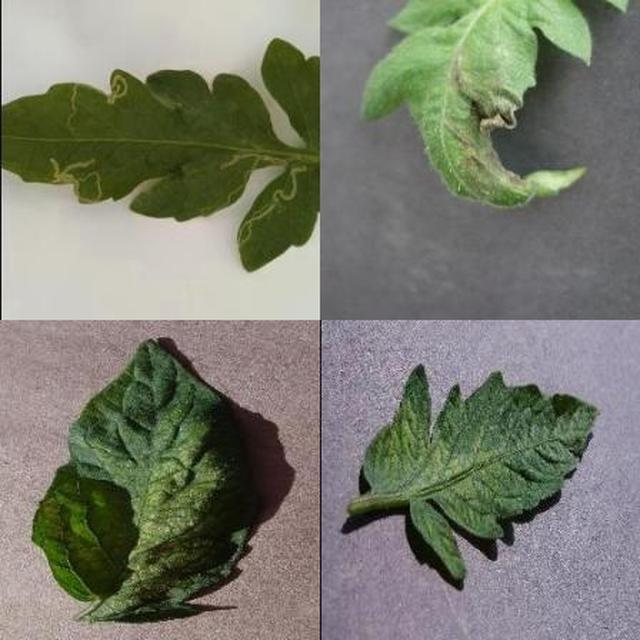Leaf Miner: (121, 152, 640, 640)
